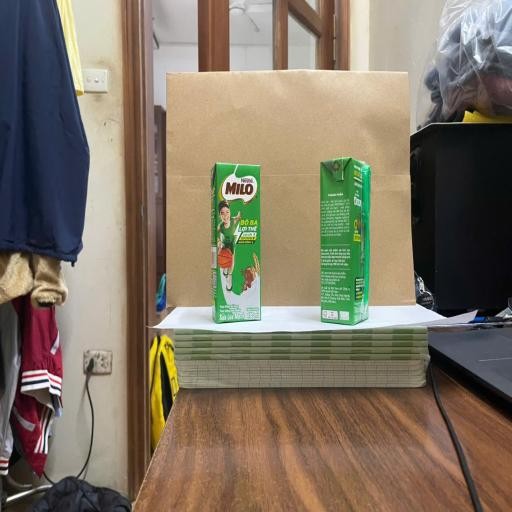milo: (320, 158, 370, 326), (211, 162, 261, 322)
